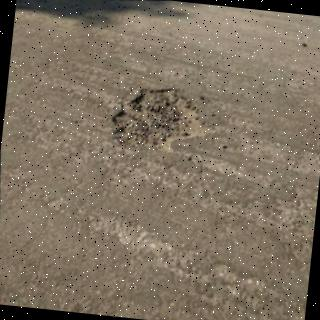pothole: (111, 87, 205, 150)
